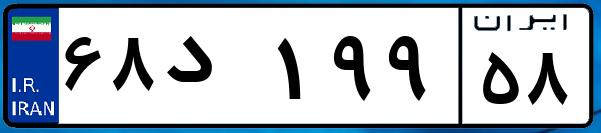1: (270, 28, 330, 110)
5: (475, 38, 525, 113)
6: (57, 26, 110, 100)
8: (525, 38, 570, 115), (110, 28, 158, 98)
9: (385, 28, 445, 110), (330, 28, 385, 110)
د: (158, 20, 270, 120)
